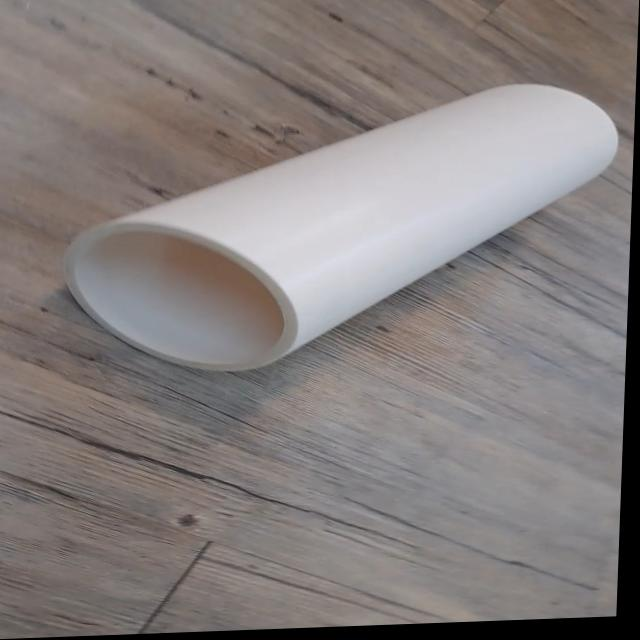CORAL: (55, 75, 628, 380)
